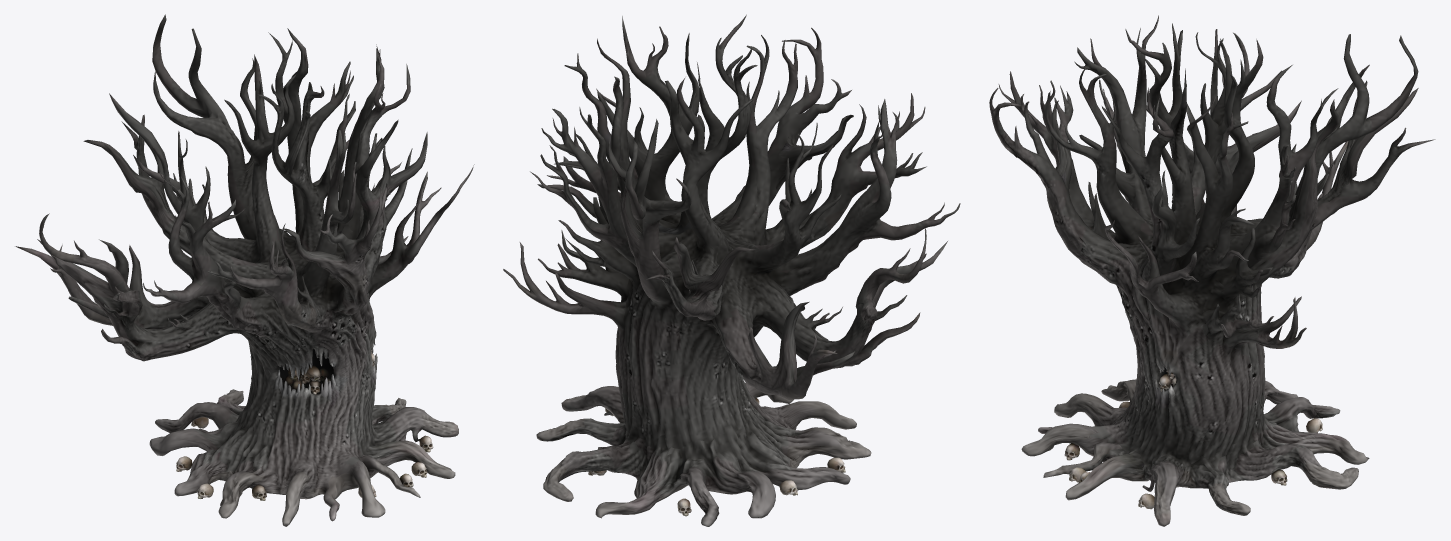
File: MZ4250 - Gukthias Blight 2025.glb
3 renders of one model, left to right at view 1: azimuth 30°, elevation 25°; view 2: azimuth 150°, elevation 25°; view 3: azimuth 270°, elevation 25°, orthographic. The views are drawn at different scales.
Visible parts, largest first — view 1: ORGANIC BASE SPHERE.002; view 2: ORGANIC BASE SPHERE.002; view 3: ORGANIC BASE SPHERE.002.
Boxes of the visible parts, box(x1,y1,x2,y2) form: ORGANIC BASE SPHERE.002: box(15, 14, 474, 526); ORGANIC BASE SPHERE.002: box(503, 14, 960, 526); ORGANIC BASE SPHERE.002: box(989, 15, 1435, 526).
Bounding box in the file's own units: 400 × 401 × 386.
Materials: 2 (2 with a texture image).
